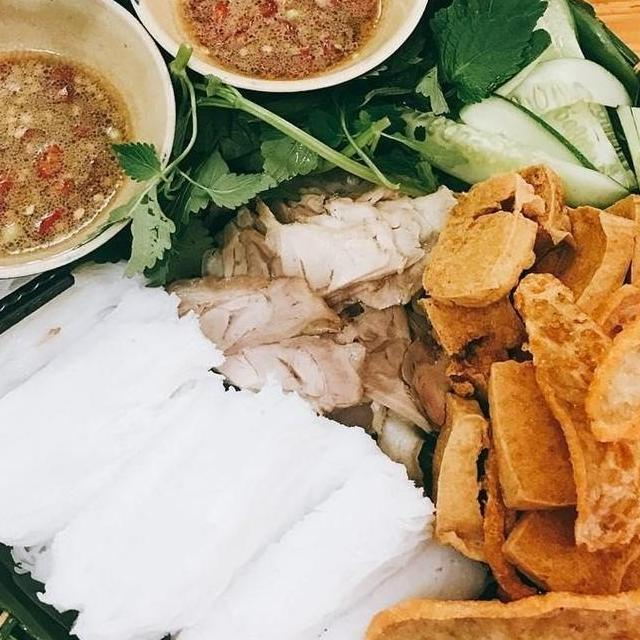bun: (0, 240, 507, 640)
bun dau: (0, 0, 640, 640)
cha com: (507, 264, 640, 555), (362, 571, 640, 640), (579, 187, 640, 447)
dau hu: (492, 467, 640, 611), (476, 350, 594, 520), (422, 168, 550, 314), (515, 196, 640, 333), (594, 186, 640, 364)
thit heo: (164, 158, 488, 474)
